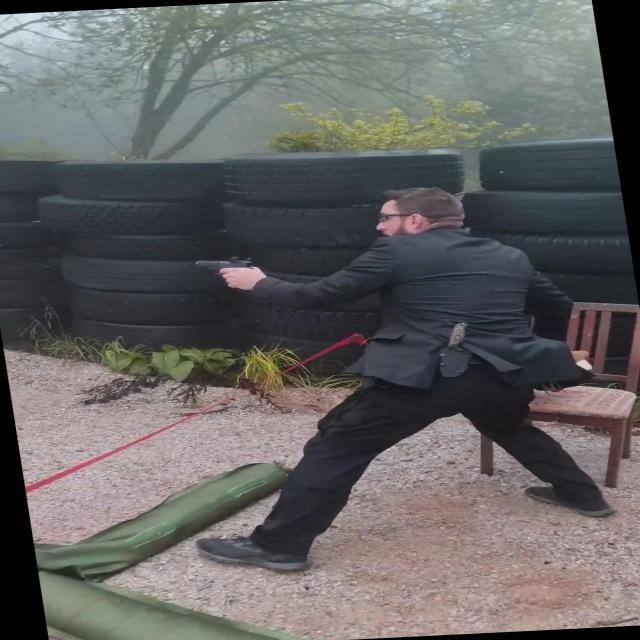pistol: (178, 257, 286, 295)
